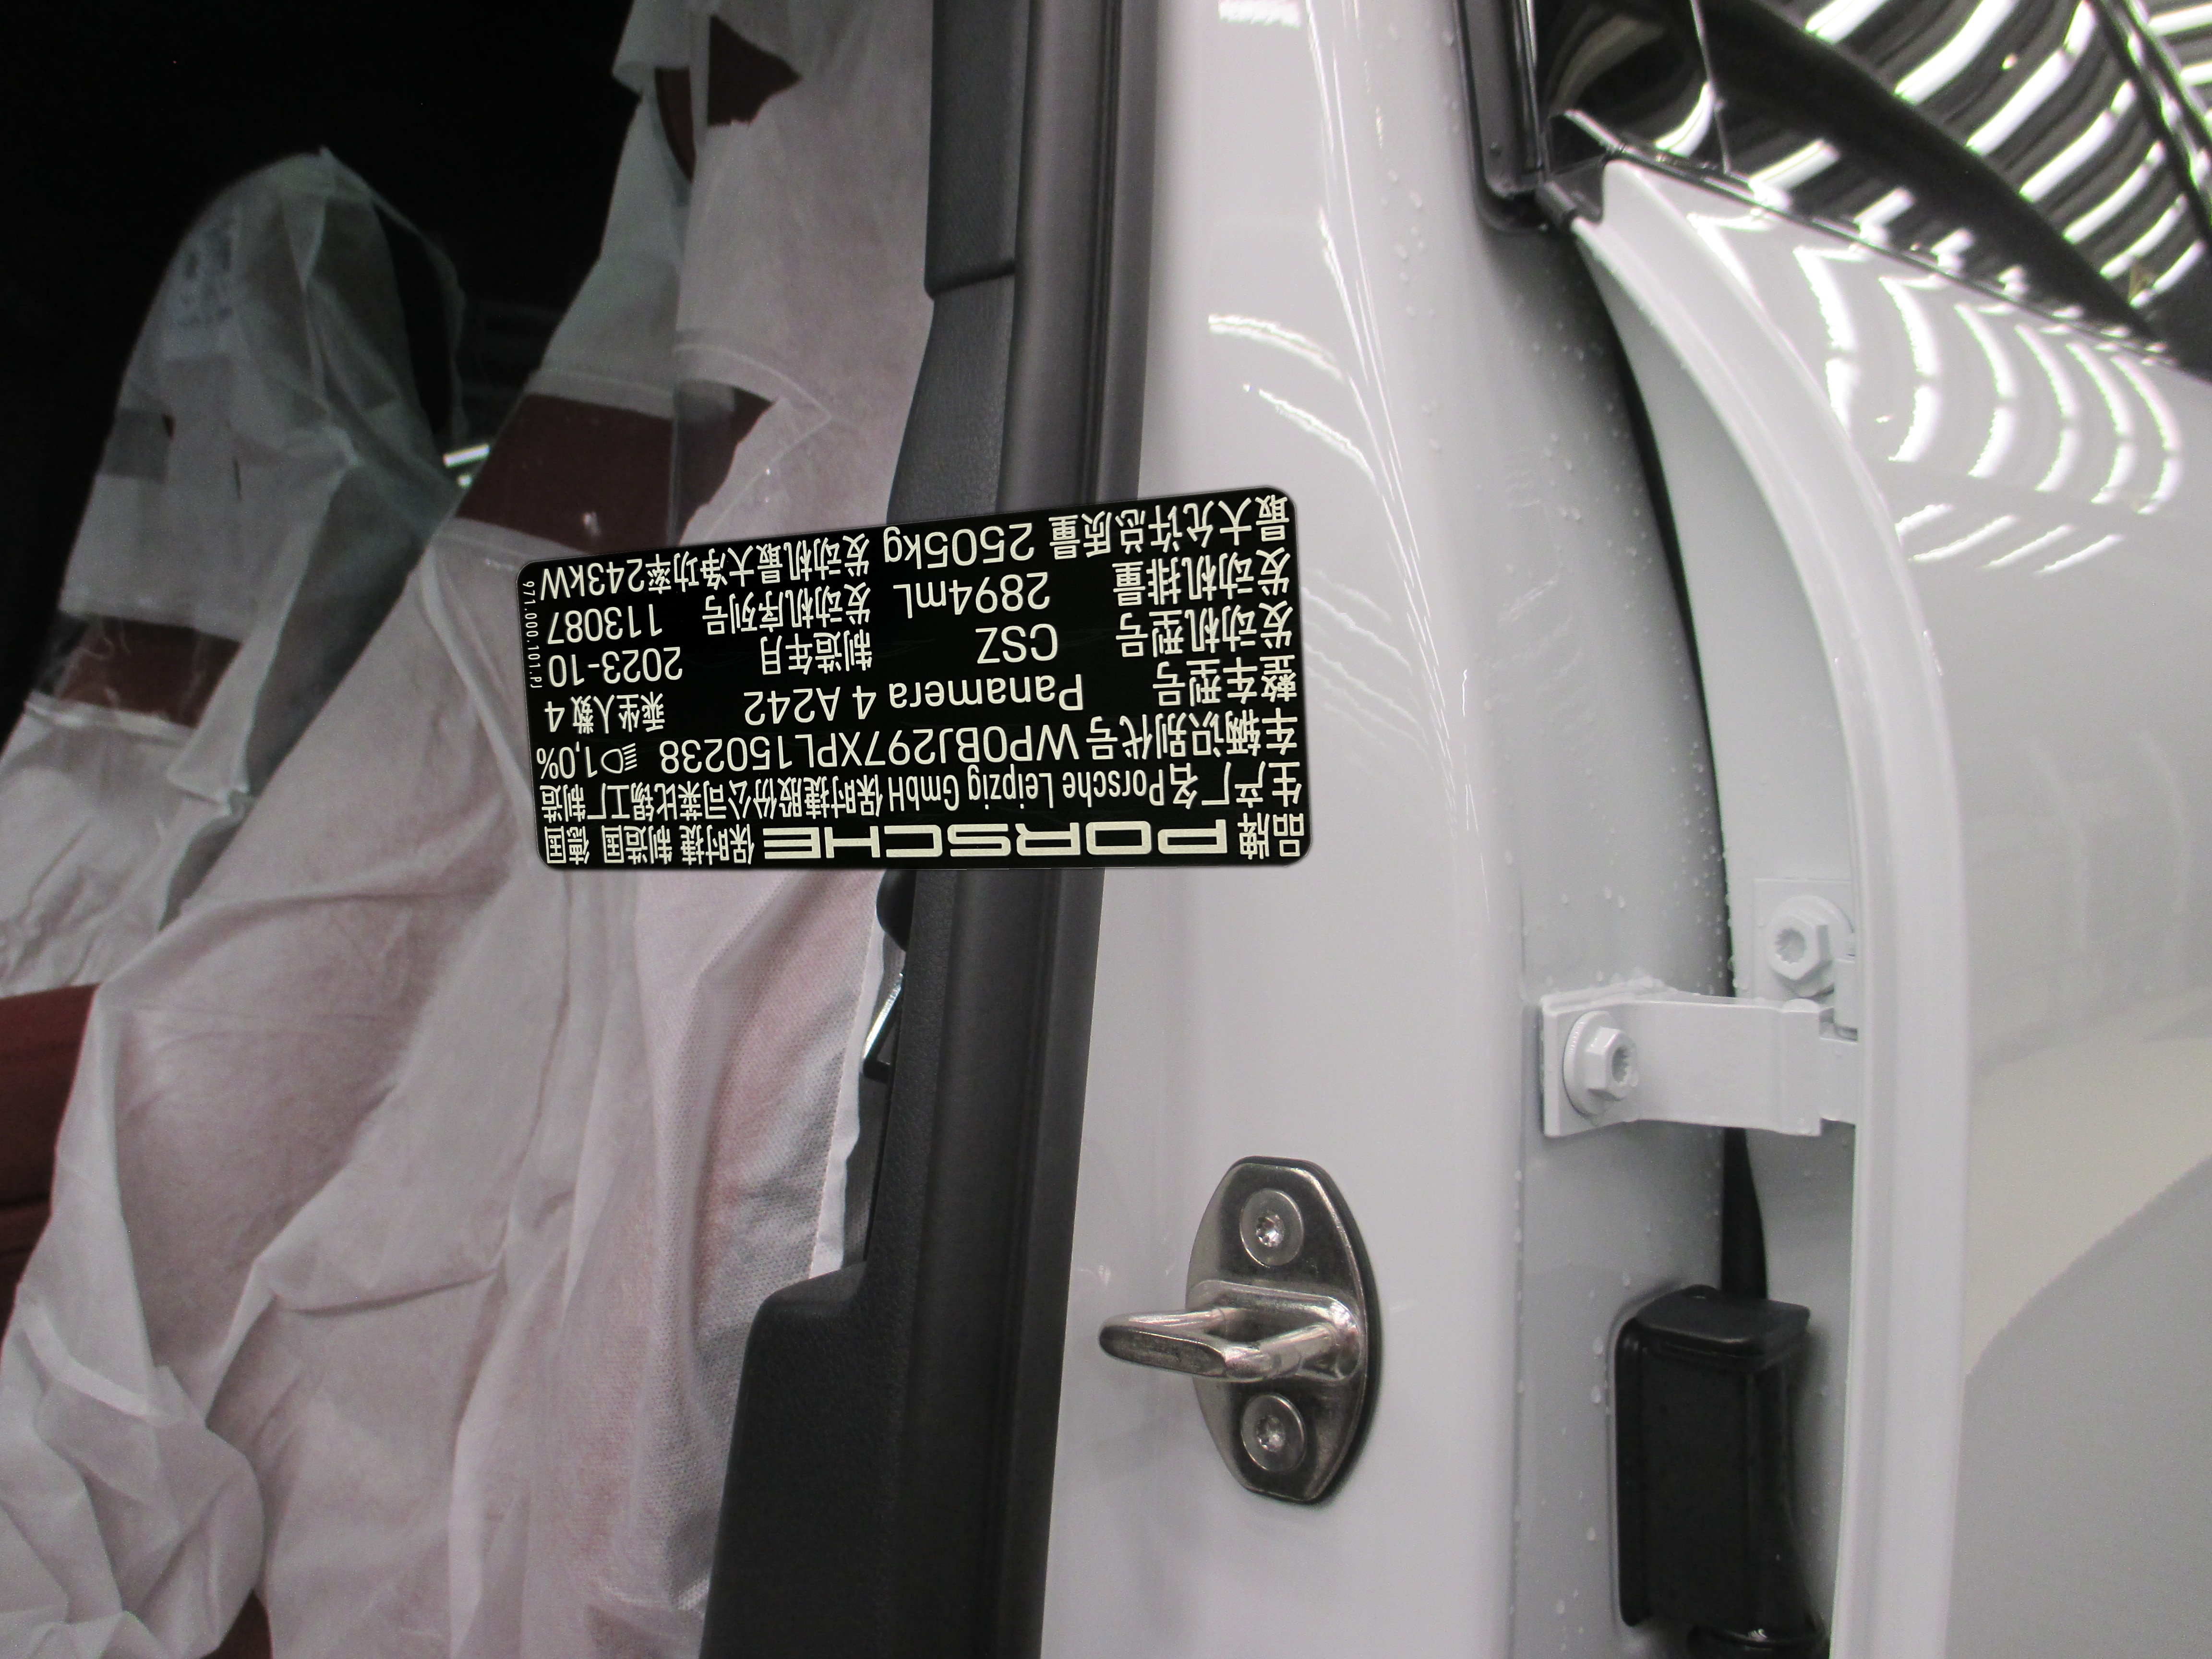Typlabel-China: (516, 486, 1312, 870)
